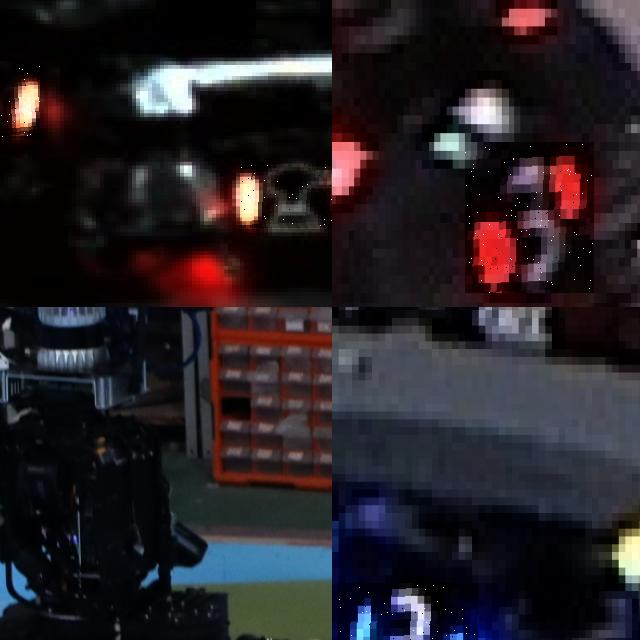B3: (338, 583, 478, 640)
R3: (465, 142, 594, 293)
Rs: (240, 161, 332, 228), (0, 64, 40, 139)
